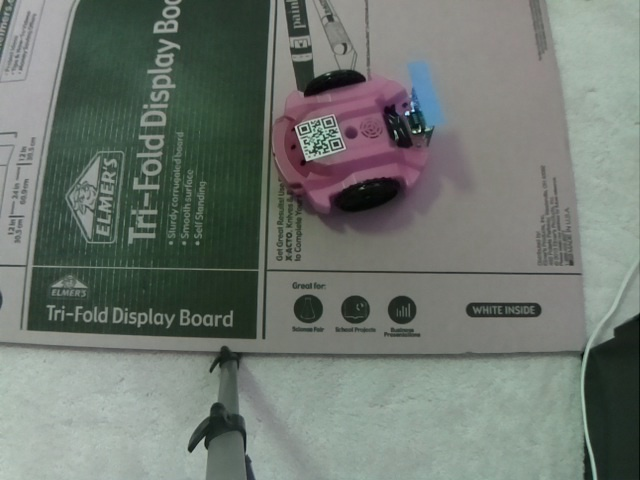chassis: (266, 61, 451, 216)
qr: (294, 119, 346, 160)
